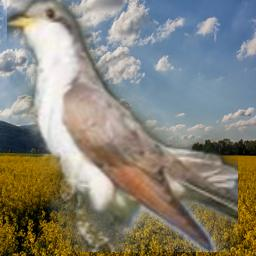Cuckoo: (7, 0, 238, 252)
